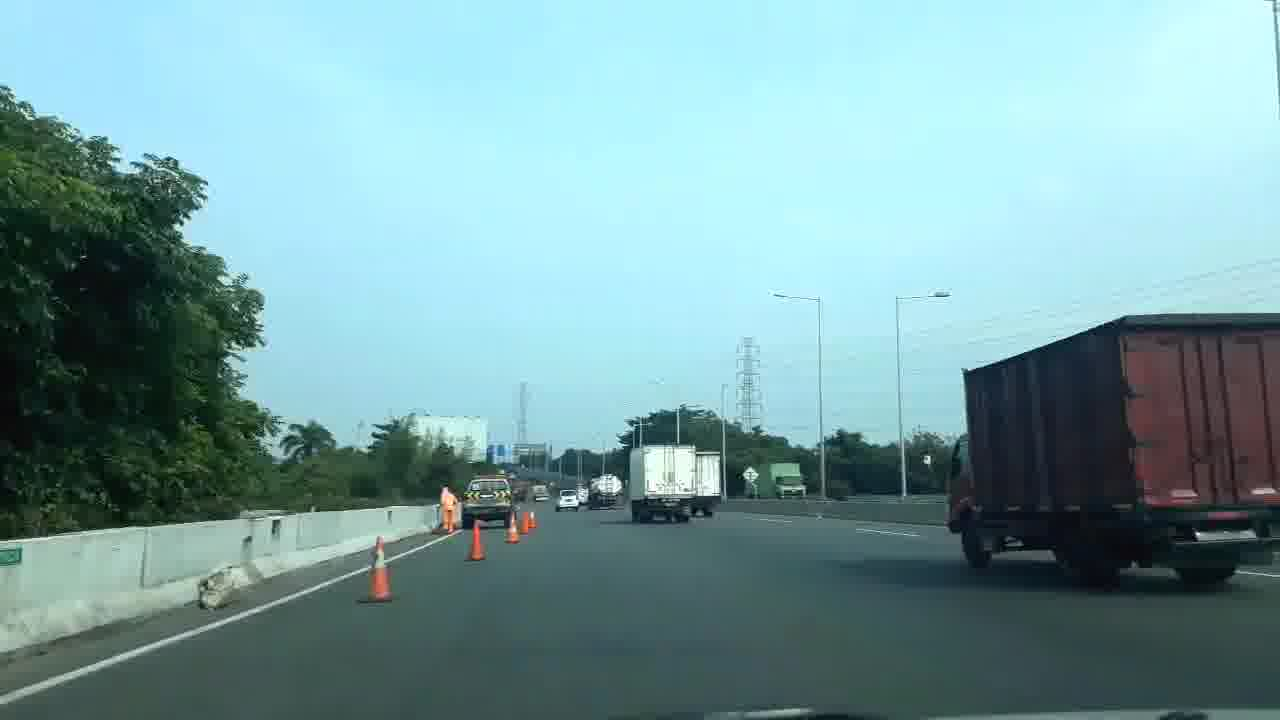plate_positive: (1194, 521, 1260, 543)
